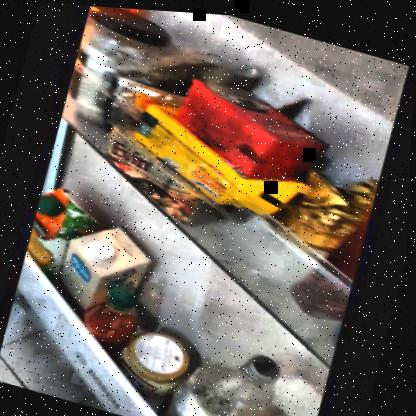butter: (108, 99, 256, 222)
milk: (57, 214, 141, 306)
